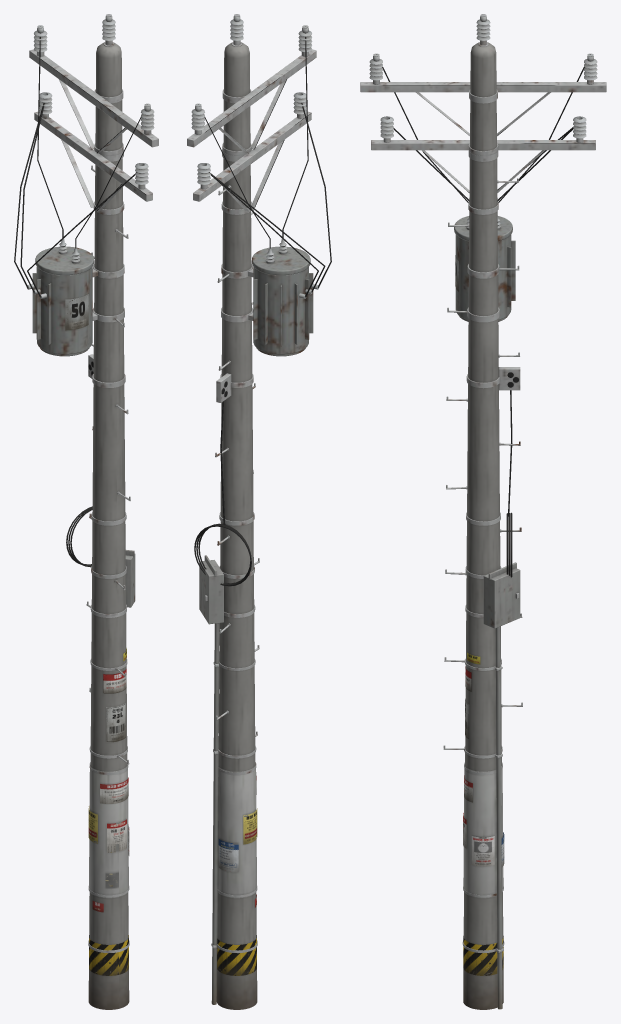
The model's file is StreetUtilityPole.fbx.
3 views of the same model, side by side, from view 1: azimuth 30°, elevation 25°; view 2: azimuth 150°, elevation 25°; view 3: azimuth 270°, elevation 25° (orthographic).
Parts seen in each view (by area): view 1: StreetUtilityPole_Body; view 2: StreetUtilityPole_Body; view 3: StreetUtilityPole_Body.
Part boxes in pixels (x1,y1,x2,y2): StreetUtilityPole_Body: (14, 14, 158, 1009); StreetUtilityPole_Body: (187, 14, 331, 1009); StreetUtilityPole_Body: (360, 14, 606, 1009).
Bounding box in the file's own units: 1.3 × 10.17 × 2.3.
